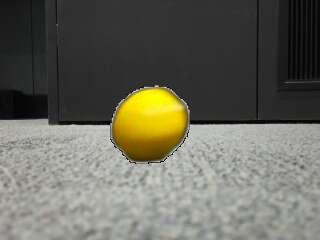lemon: (114, 87, 187, 160)
